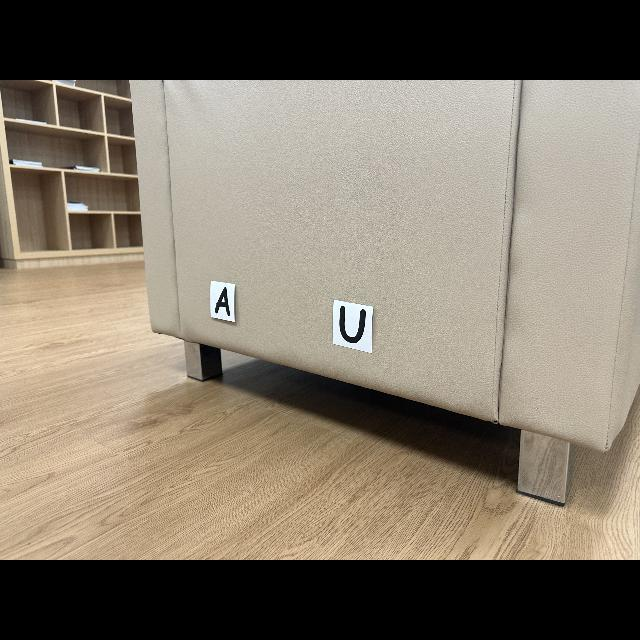A: (215, 286, 231, 316)
U: (339, 305, 366, 344)
